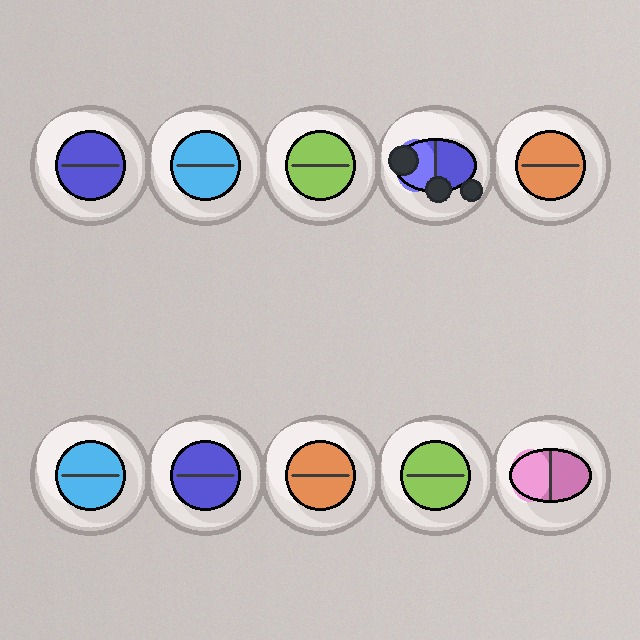stain: (373, 103, 497, 227)
